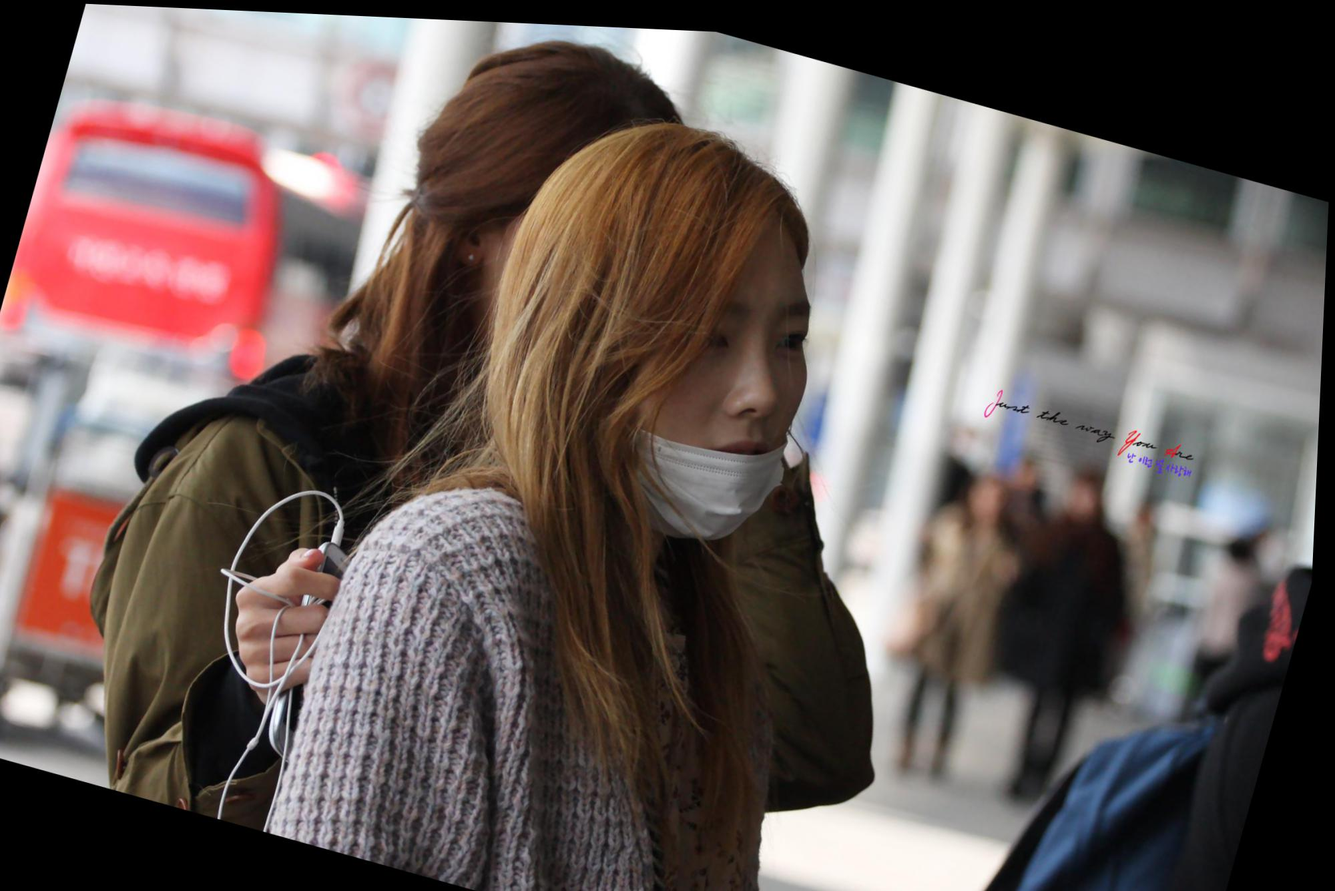WRONG: (583, 239, 842, 533)
